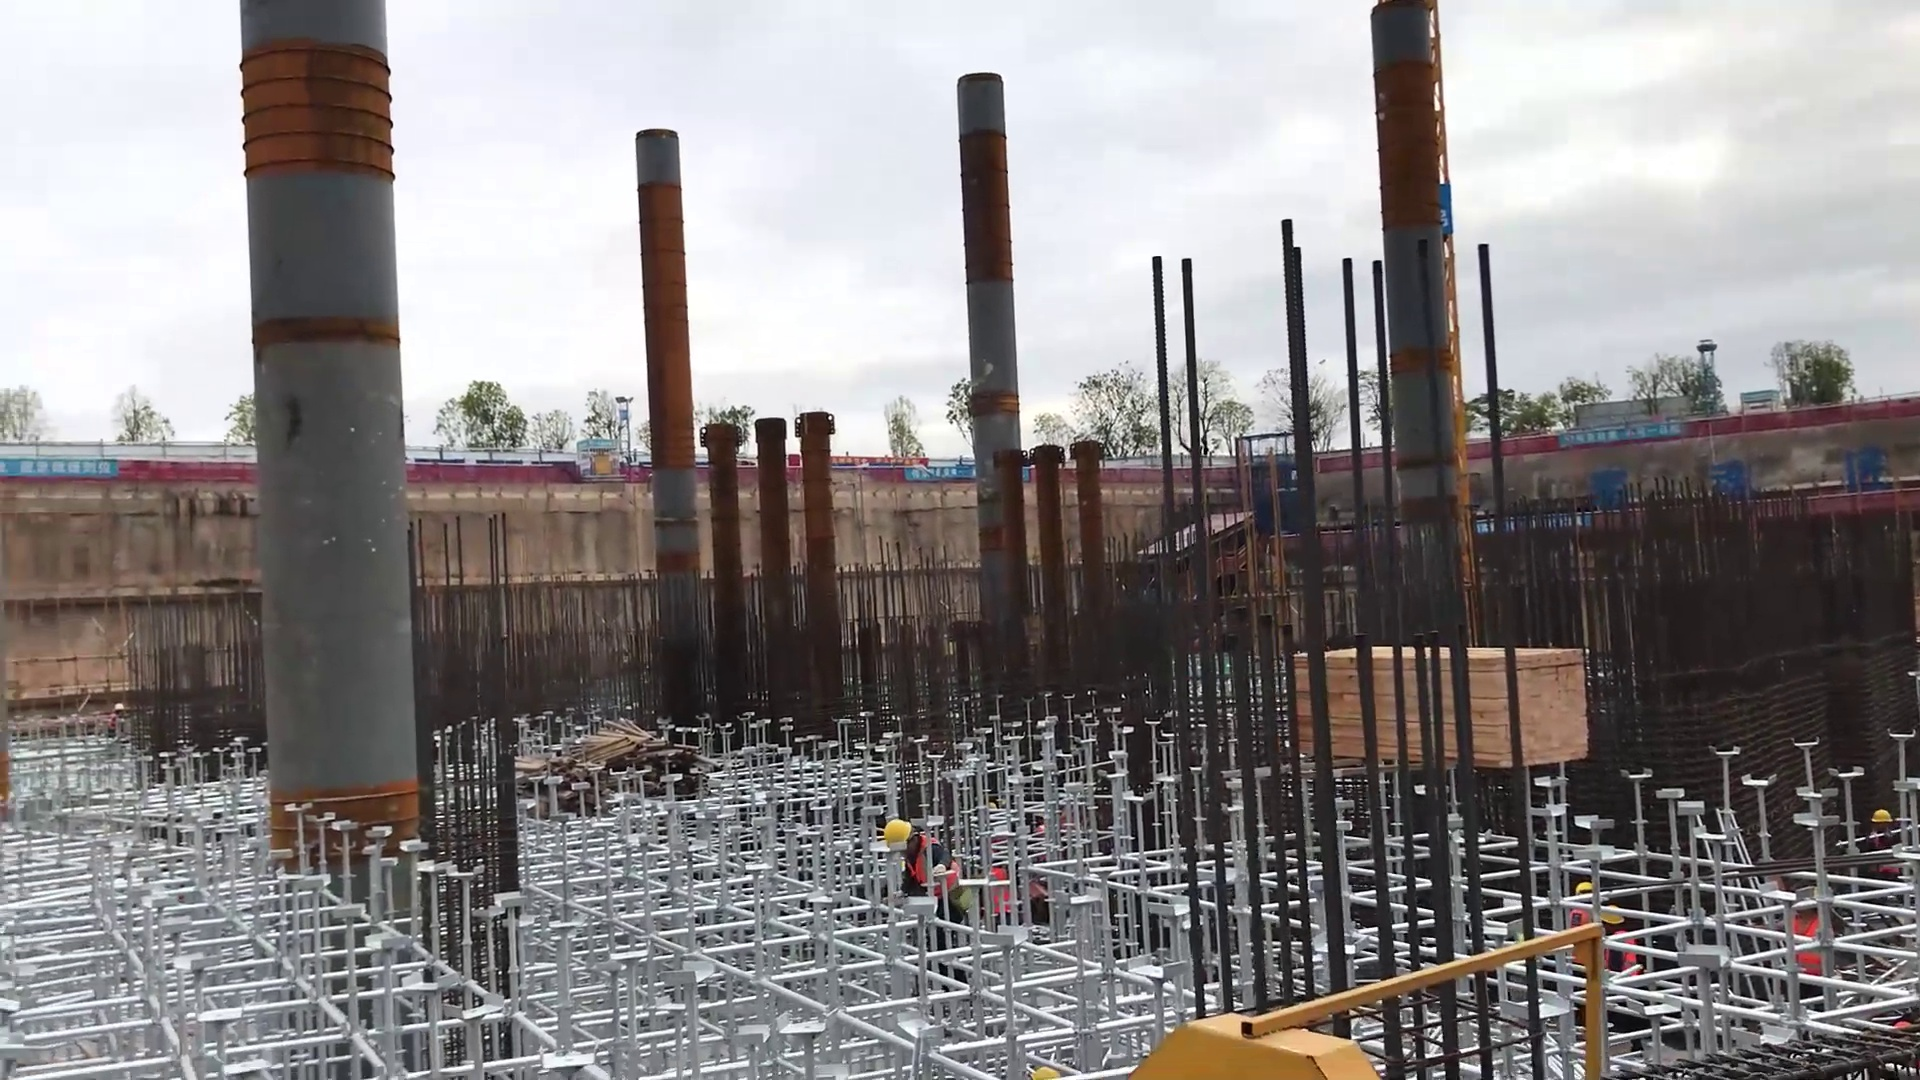helmet: (883, 817, 913, 854), (1608, 905, 1625, 929), (1871, 809, 1892, 823), (1578, 881, 1598, 894), (115, 706, 124, 715)
person: (885, 817, 973, 990), (1779, 886, 1848, 1006), (1858, 803, 1901, 881), (1601, 902, 1645, 977), (982, 851, 1019, 931), (1569, 878, 1598, 953), (105, 693, 131, 739)
vest: (1782, 907, 1830, 973), (915, 838, 955, 896), (986, 865, 1017, 922), (1867, 830, 1904, 874), (1612, 929, 1635, 971), (1573, 907, 1591, 952), (110, 715, 129, 734)
